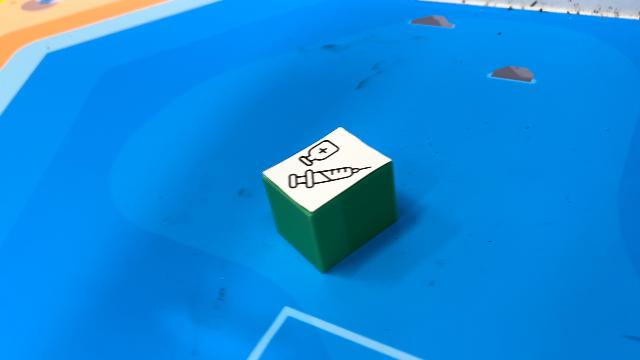syringe: (260, 127, 398, 274)
